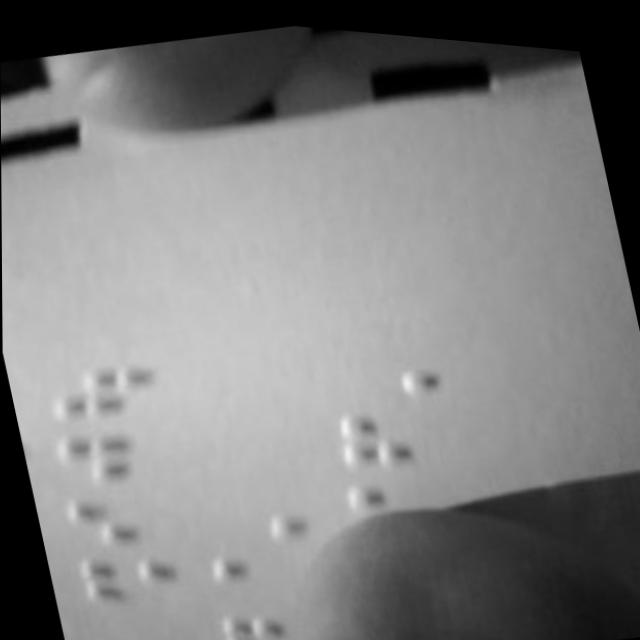braiile: (326, 389, 457, 486), (60, 481, 179, 559), (53, 412, 167, 493), (70, 536, 184, 614), (42, 349, 155, 424)
